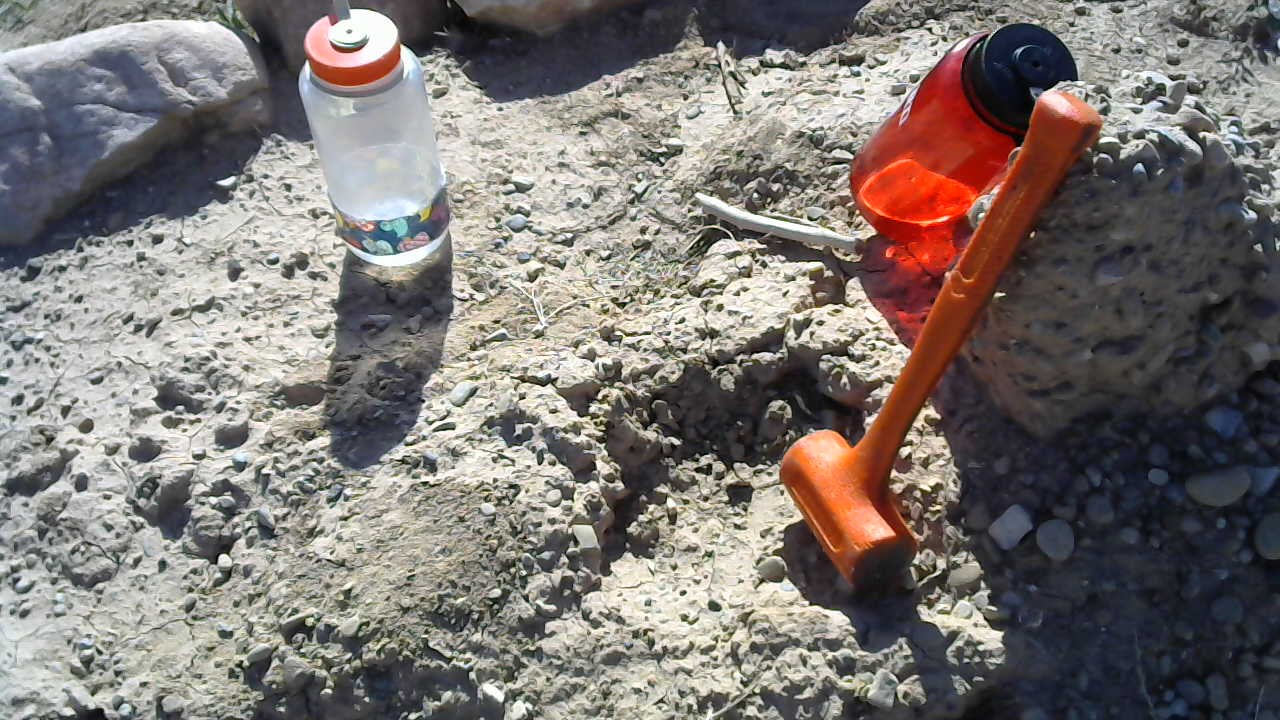bottle: (844, 22, 1079, 246), (296, 0, 457, 272)
hammer: (775, 88, 1104, 594)
